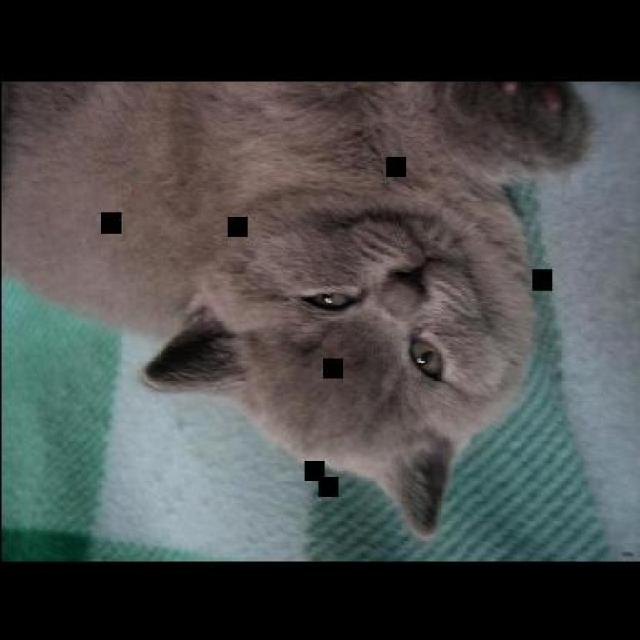unauthorized: (0, 78, 594, 540)
